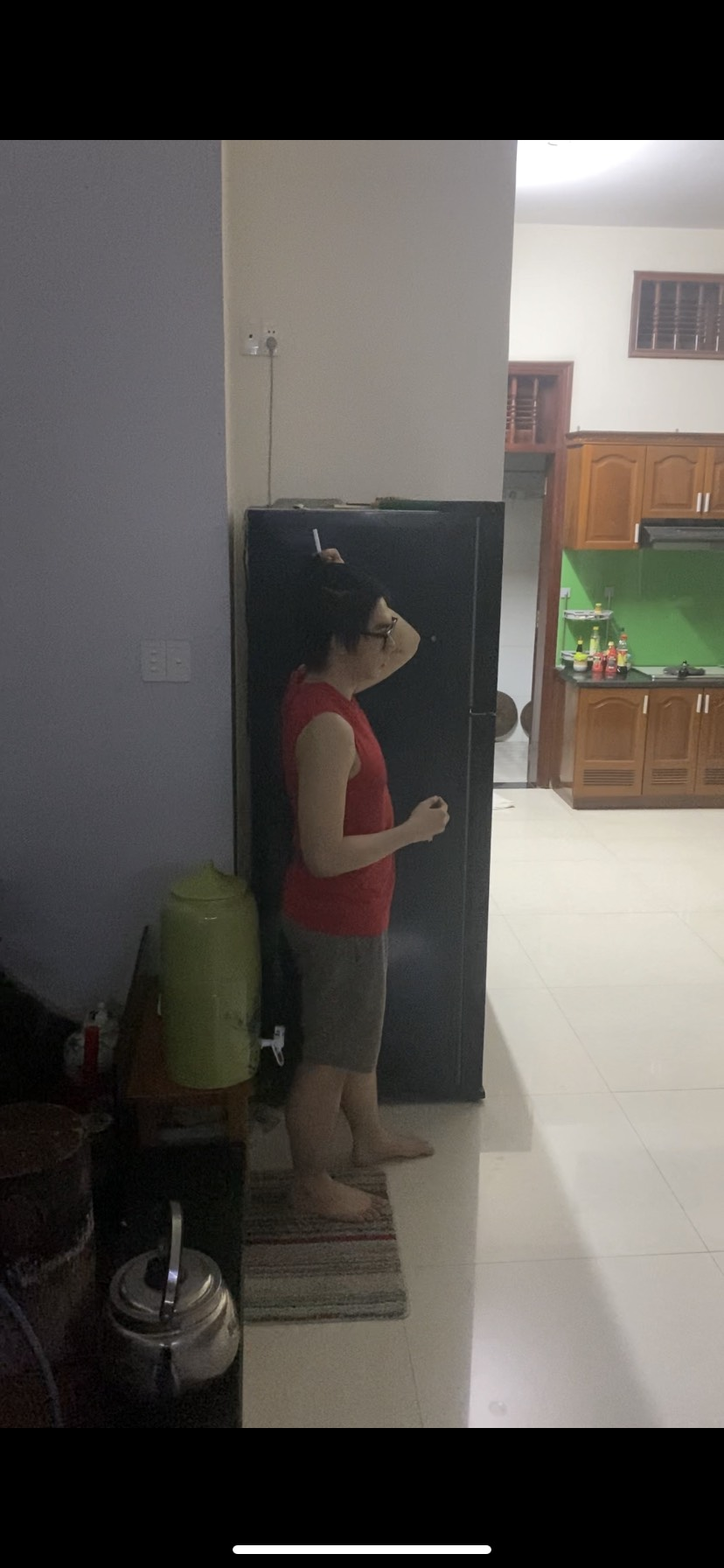cigarette: (310, 525, 324, 552)
person: (274, 571, 449, 1194)
